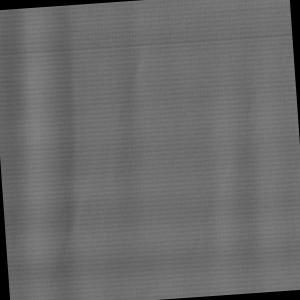Wrinkle: (1, 5, 112, 300)
